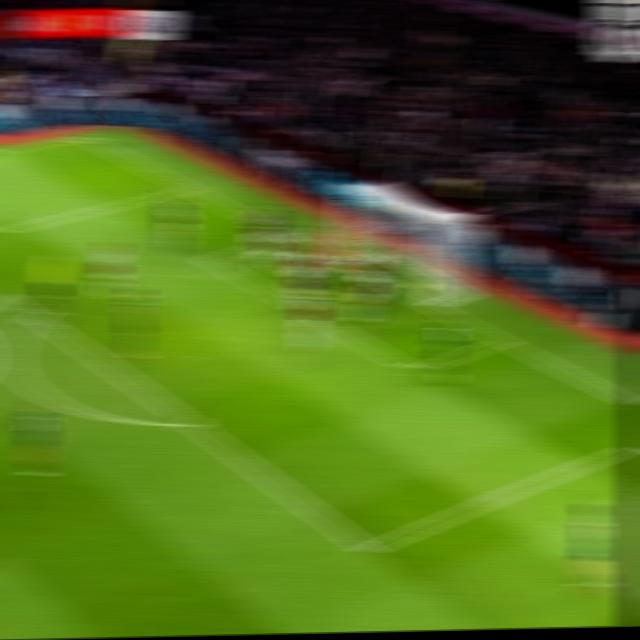bigarea_bottom_inner: (349, 531, 386, 565)
bigarea_top_outter: (175, 180, 203, 197)
bottom_arc_area_intersection: (175, 409, 206, 437)
corner: (64, 128, 99, 145)
smallarea_bottom_inner: (399, 356, 431, 382)
smallarea_bottom_outter: (484, 327, 516, 351)
smallarea_top_inner: (194, 249, 224, 267)
smallarea_top_outter: (272, 227, 301, 245)
top_arc_area_intersection: (21, 303, 52, 329)
